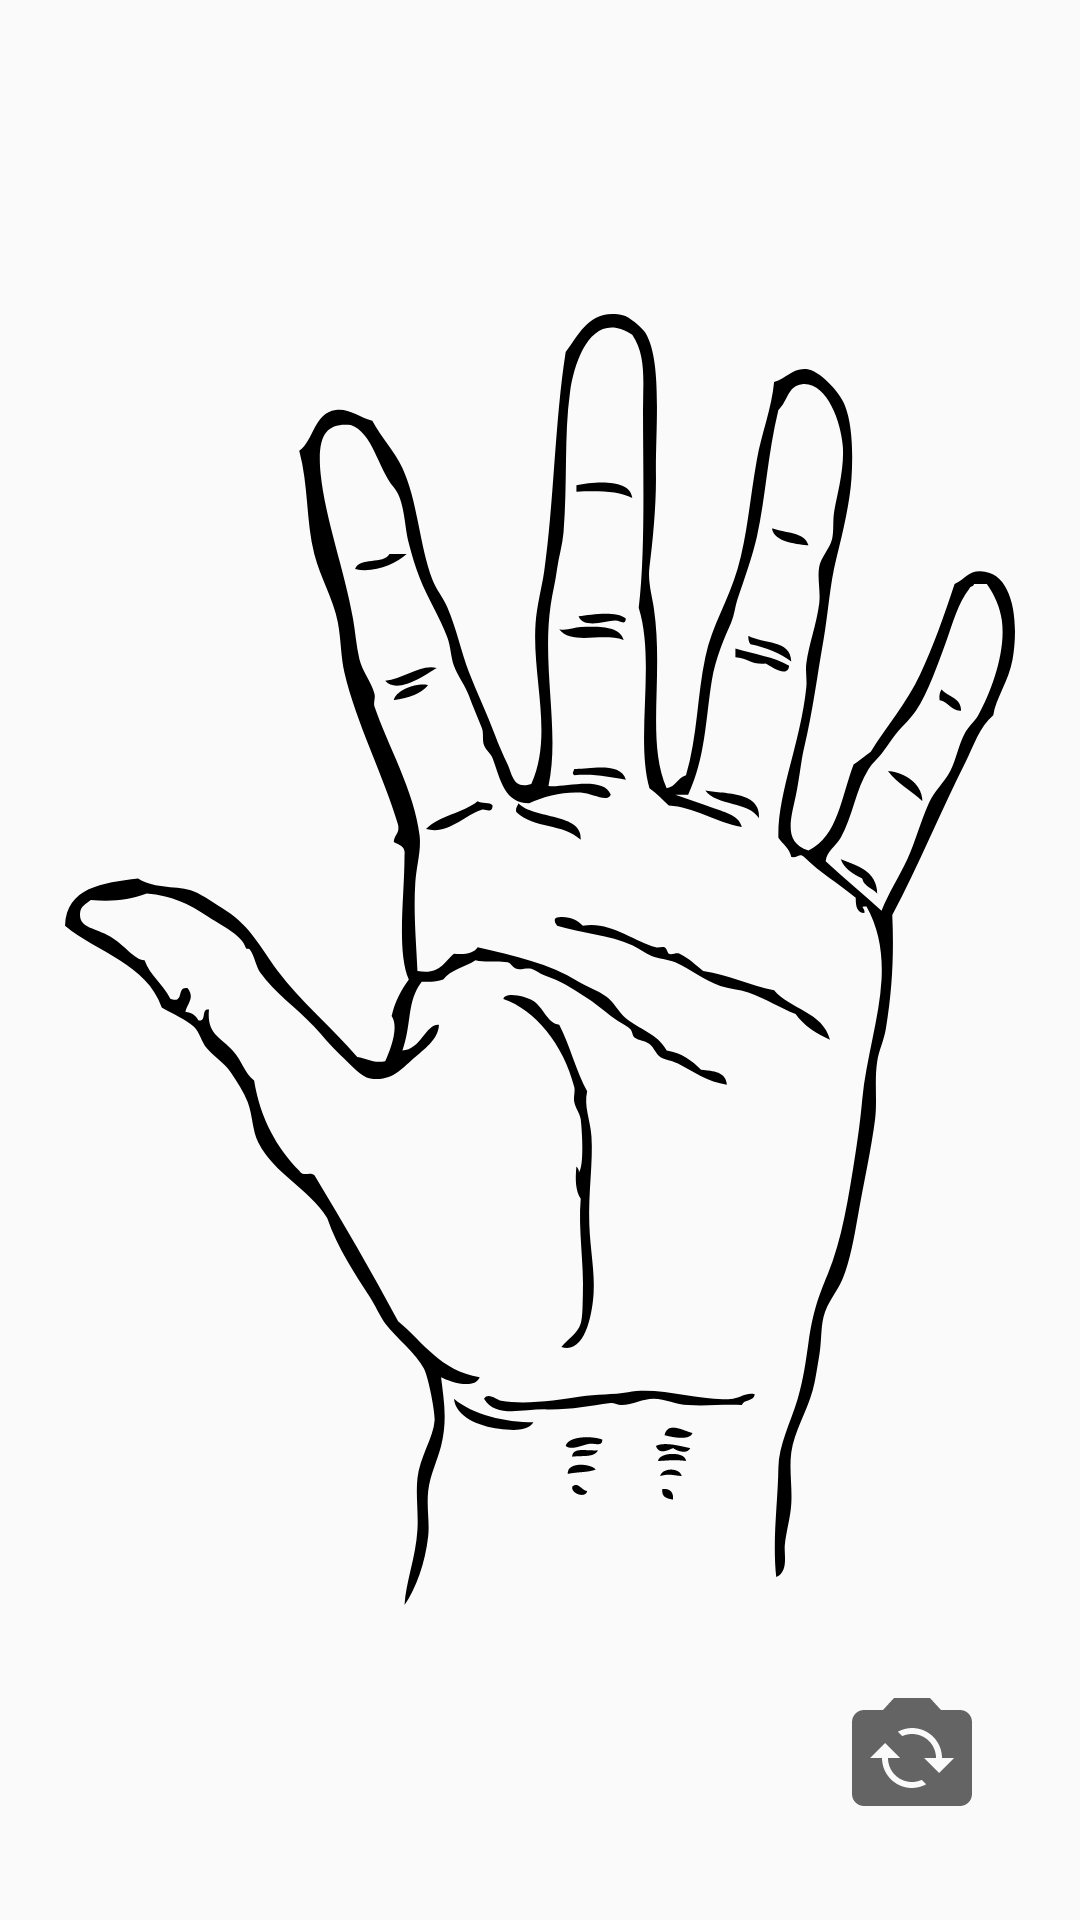

Point at icon controls on the screen. Image size 1080px x 1920px, points as (x,y).
switch: (912,1752)
